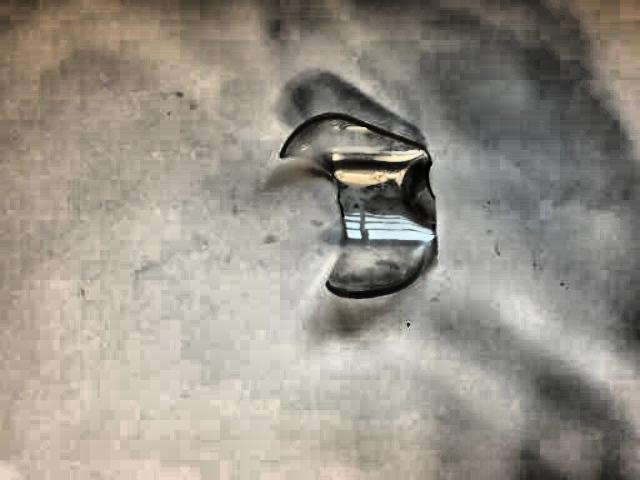Almennt: (259, 105, 481, 318)
